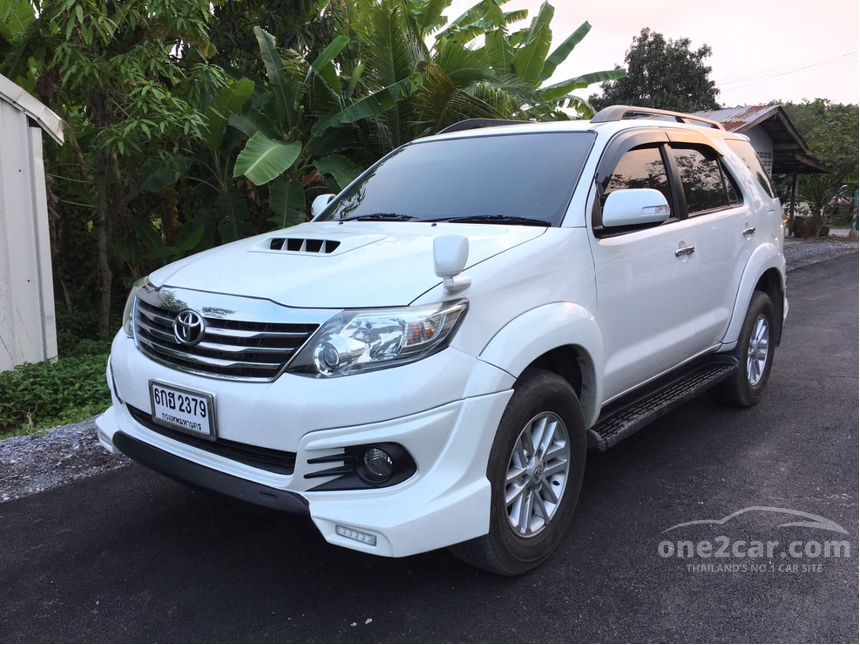pickup: (92, 102, 790, 577)
